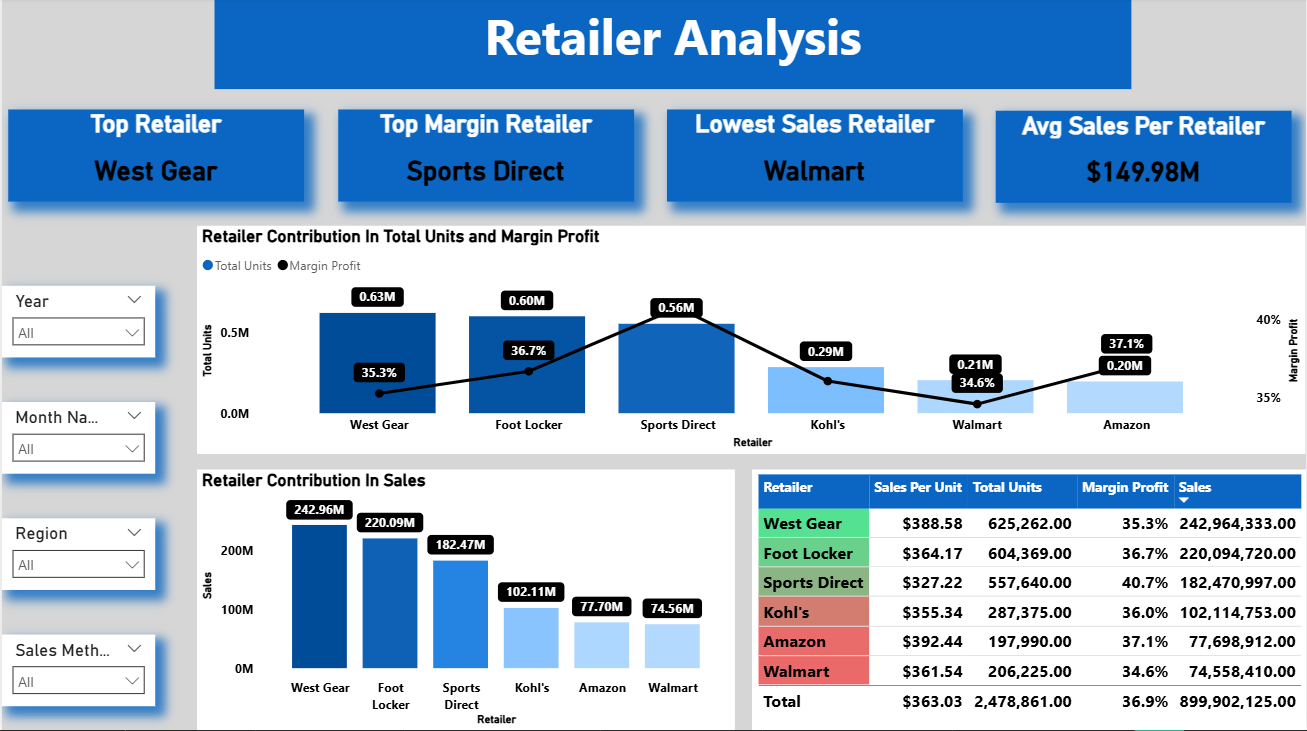

The dashboard page shown, as its layout file describes it:
{"tool":"powerbi","page":{"name":"Retailer Analysis","canvas":[1280,720],"ordinal":3},"visuals":[{"type":"clusteredColumnChart","title":"Retailer Contribution In Sales","fields":{"Category":["Retailers.Retailer"],"Y":["Sales.Sales"]},"box":[192,464,528,256],"z":0},{"type":"tableEx","fields":{"Values":["Sales.Retailer","Sales.Sales Per Unit","Sales.Sold Units","Sales.Margin Profit","Sales.Sales"]},"box":[736,464,544,256],"z":1000},{"type":"lineClusteredColumnComboChart","title":"Retailer Contribution In Total Units and Margin Profit","fields":{"Category":["Retailers.Retailer"],"Y":["Sales.Total Units"],"Y2":["Sales.Margin Profit"]},"box":[192,224,1088,224],"z":2000},{"type":"card","title":"Top Retailer","fields":{"Values":["Retailers.Top Retailer"]},"box":[6.6,109.9,290,90],"z":5000},{"type":"card","title":"Avg Sales Per Retailer","fields":{"Values":["Retailers.Avg Sales per Retailer"]},"box":[976,112,290,90],"z":6000},{"type":"card","title":"Top Margin Retailer","fields":{"Values":["Retailers.Top Margin Retailer"]},"box":[329.8,109.9,290,90],"z":7000},{"type":"slicer","fields":{"Values":["Dates.Year"]},"box":[0,283.6,150,70],"z":8000},{"type":"slicer","fields":{"Values":["Regions.Region"]},"box":[0,511.3,150,70],"z":9000},{"type":"slicer","fields":{"Values":["Sales.Sales Method"]},"box":[0,625.5,150,70],"z":10000},{"type":"card","title":"Lowest Sales Retailer","fields":{"Values":["Retailers.Lowest Retailer"]},"box":[652.9,109.9,290,90],"z":11000},{"type":"slicer","fields":{"Values":["Dates.Month Name"]},"box":[0,397.2,150,70],"z":11001},{"type":"textbox","box":[208,0,900,90],"z":11002}]}

Visuals, with their boxes in screenshot pixels (x1, y1, x2, y2), scaled from the page's 1280x720 canvas onto the 1307x731 screenshot:
"Retailer Contribution In Sales" clusteredColumnChart: {"x1": 196, "y1": 471, "x2": 735, "y2": 730}
tableEx - Sales.Retailer x Sales.Sales Per Unit: {"x1": 752, "y1": 471, "x2": 1306, "y2": 730}
"Retailer Contribution In Total Units and Margin Profit" lineClusteredColumnComboChart: {"x1": 196, "y1": 227, "x2": 1306, "y2": 455}
"Top Retailer" card: {"x1": 7, "y1": 112, "x2": 303, "y2": 203}
"Avg Sales Per Retailer" card: {"x1": 997, "y1": 114, "x2": 1293, "y2": 205}
"Top Margin Retailer" card: {"x1": 337, "y1": 112, "x2": 633, "y2": 203}
slicer - Dates.Year: {"x1": 0, "y1": 288, "x2": 153, "y2": 359}
slicer - Regions.Region: {"x1": 0, "y1": 519, "x2": 153, "y2": 590}
slicer - Sales.Sales Method: {"x1": 0, "y1": 635, "x2": 153, "y2": 706}
"Lowest Sales Retailer" card: {"x1": 667, "y1": 112, "x2": 963, "y2": 203}
slicer - Dates.Month Name: {"x1": 0, "y1": 403, "x2": 153, "y2": 474}
textbox: {"x1": 212, "y1": 0, "x2": 1131, "y2": 91}
